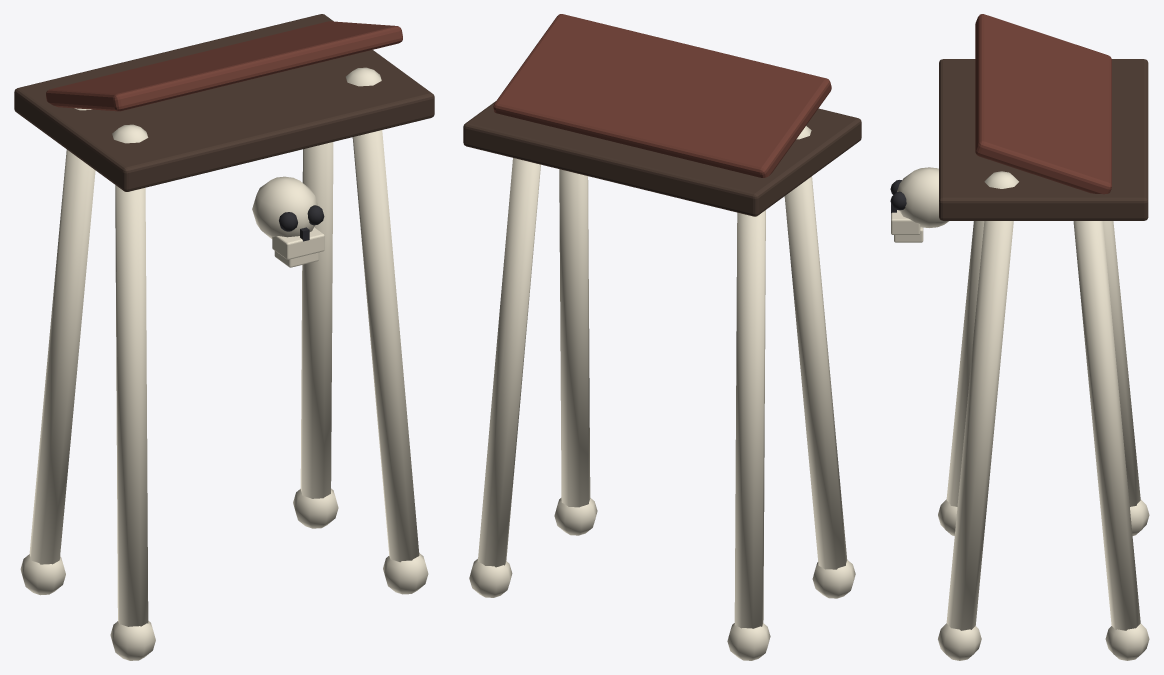
The model's file is podium_lecture_bone.glb.
3 renders of one model, left to right at view 1: azimuth 30°, elevation 25°; view 2: azimuth 150°, elevation 25°; view 3: azimuth 270°, elevation 25°, orthographic. The views are drawn at different scales.
Parts seen in each view (by area): view 1: GD_podium_lecture_bone__m0, GD_podium_lecture_bone__m1, GD_podium_lecture_bone__m2, GD_podium_lecture_bone__m3; view 2: GD_podium_lecture_bone__m0, GD_podium_lecture_bone__m2, GD_podium_lecture_bone__m1; view 3: GD_podium_lecture_bone__m0, GD_podium_lecture_bone__m2, GD_podium_lecture_bone__m1.
Boxes of the visible parts, left/top/right/bottom form: GD_podium_lecture_bone__m0: left=20, top=67, right=428, bottom=660; GD_podium_lecture_bone__m1: left=14, top=14, right=434, bottom=191; GD_podium_lecture_bone__m2: left=46, top=21, right=402, bottom=111; GD_podium_lecture_bone__m3: left=279, top=205, right=324, bottom=241; GD_podium_lecture_bone__m0: left=469, top=126, right=855, bottom=660; GD_podium_lecture_bone__m2: left=493, top=14, right=831, bottom=177; GD_podium_lecture_bone__m1: left=463, top=101, right=861, bottom=216; GD_podium_lecture_bone__m0: left=891, top=167, right=1149, bottom=660; GD_podium_lecture_bone__m2: left=975, top=14, right=1111, bottom=194; GD_podium_lecture_bone__m1: left=939, top=59, right=1148, bottom=220.
Bounding box in the file's own units: 0.805 × 1.37 × 0.6179.
